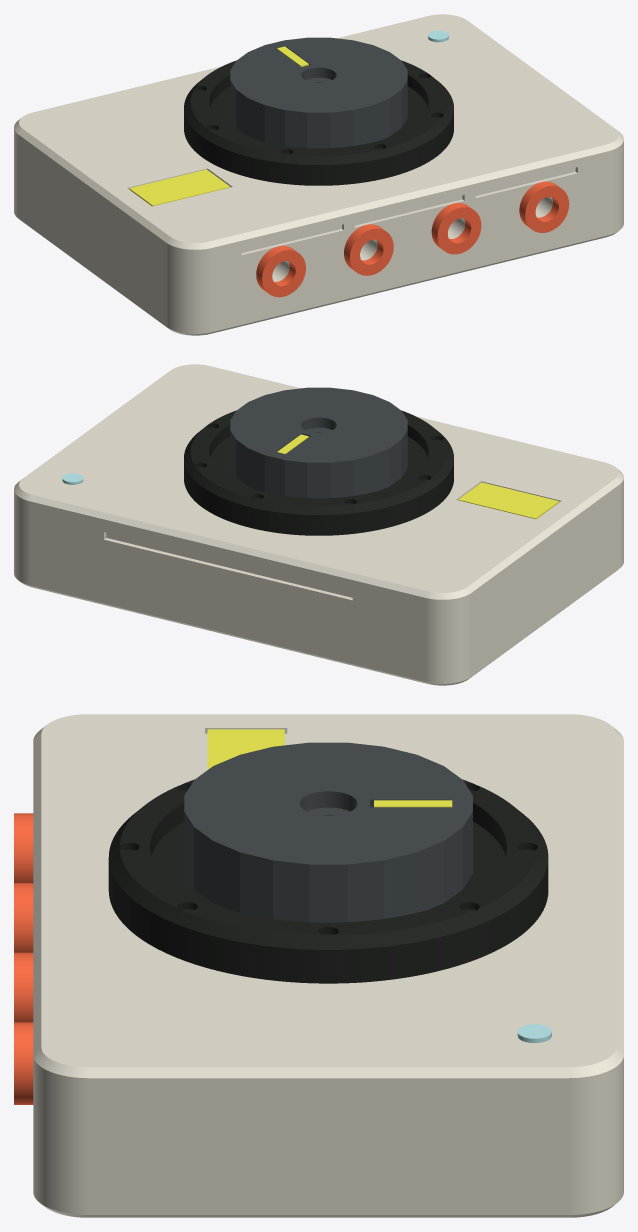
3 views of the same model, one above another, from view 1: azimuth 30°, elevation 25°; view 2: azimuth 150°, elevation 25°; view 3: azimuth 270°, elevation 25° (orthographic). The views are drawn at different scales.
Parts seen in each view (by area): view 1: Chassis, Dial, Platter, LabelPlate, CollarC, CollarA, CollarB, CollarD; view 2: Chassis, Dial, Platter, LabelPlate; view 3: Chassis, Dial, Platter, LabelPlate, CollarD, CollarC, CollarA, CollarB.
Boxes of the visible parts, x1,y1,x2,y2 form: Chassis: (14, 14, 623, 335); Dial: (230, 37, 407, 148); Platter: (184, 60, 453, 185); LabelPlate: (129, 169, 229, 206); CollarC: (431, 203, 481, 254); CollarA: (256, 245, 305, 297); CollarB: (344, 224, 393, 275); CollarD: (519, 181, 569, 232); Chassis: (14, 364, 623, 685); Dial: (230, 387, 407, 498); Platter: (184, 410, 453, 535); LabelPlate: (458, 482, 559, 519); Chassis: (33, 714, 623, 1217); Dial: (184, 742, 472, 922); Platter: (108, 779, 548, 983); LabelPlate: (207, 729, 284, 769); CollarD: (14, 1022, 33, 1104); CollarC: (14, 952, 33, 1022); CollarA: (14, 813, 33, 882); CollarB: (14, 883, 33, 952).
Bounding box in the file's own units: 0.124 × 0.038 × 0.0888.
